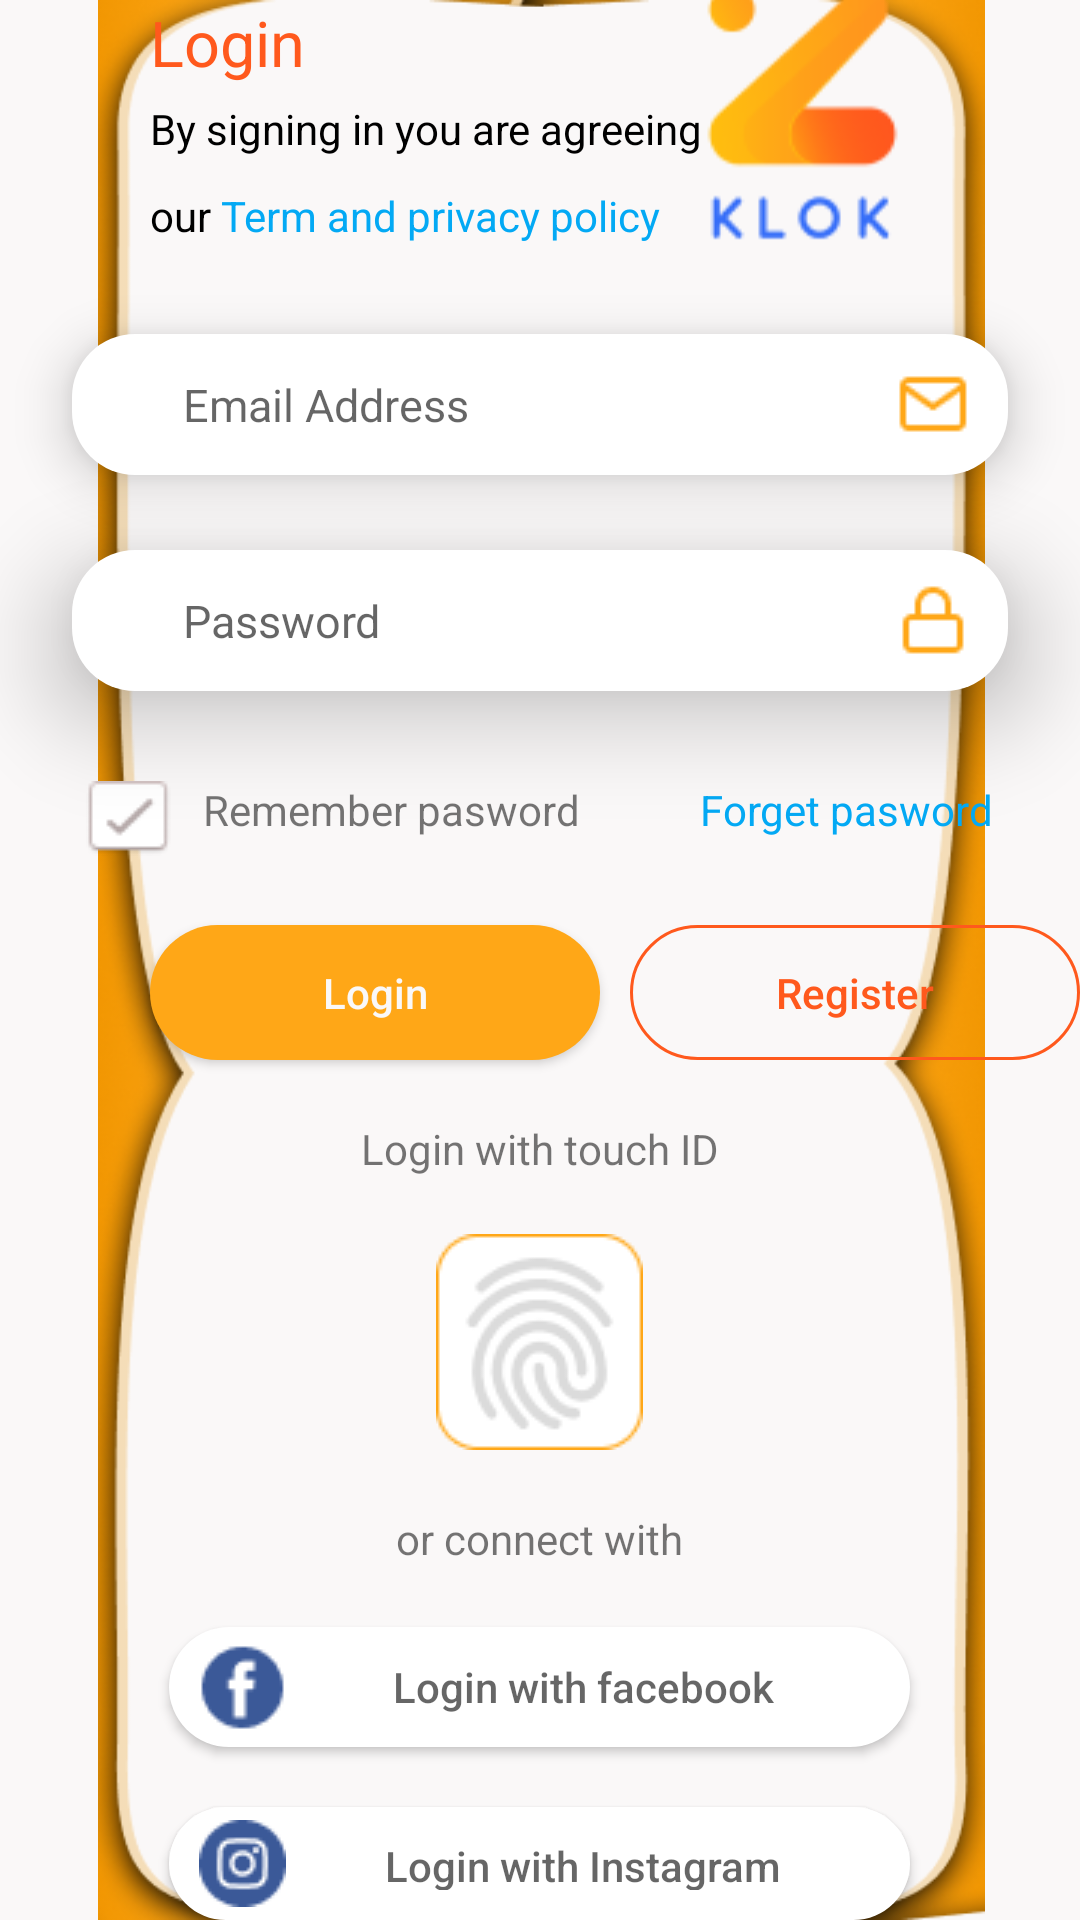

Icons on this 1080x1920 Android screen, each with the point to tap as (x=x, y=y):
tick: (x=128, y=818)
